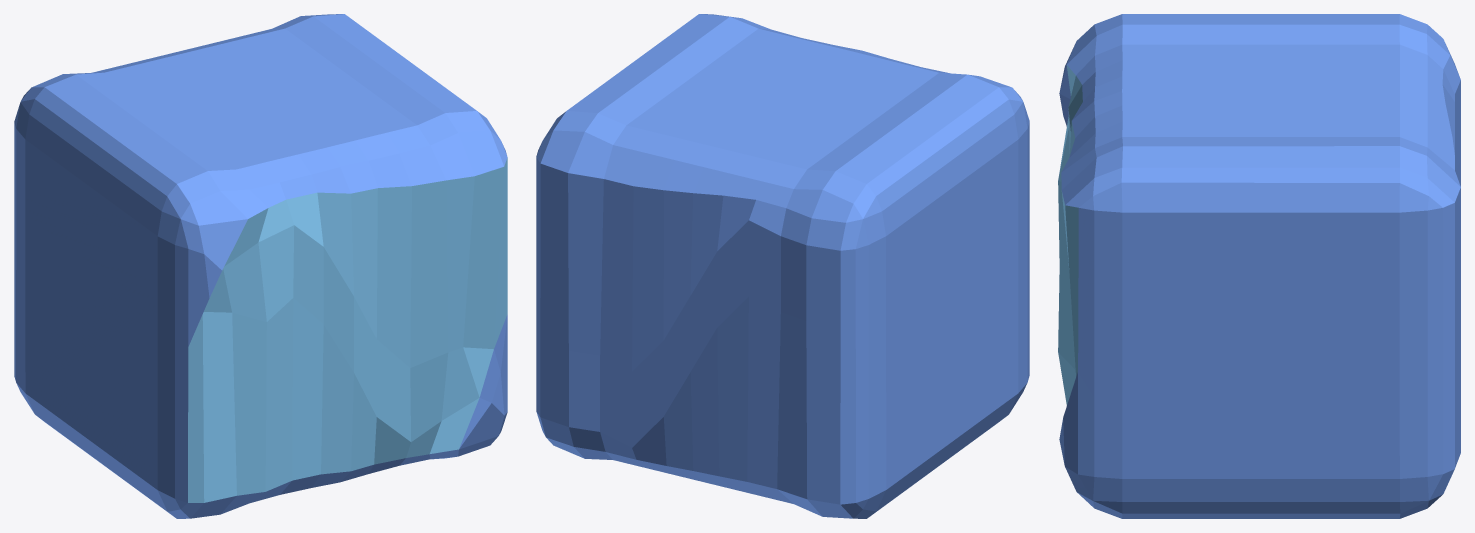
Rendered from smallbluebutton - Copy.fbx.
3 renders of one model, left to right at view 1: azimuth 30°, elevation 25°; view 2: azimuth 150°, elevation 25°; view 3: azimuth 270°, elevation 25°, orthographic. The views are drawn at different scales.
Visible parts, largest first — view 1: pCube5; view 2: pCube5; view 3: pCube5.
Boxes of the visible parts, x1=… form: pCube5: x1=14, y1=14, x2=507, y2=518; pCube5: x1=536, y1=14, x2=1029, y2=518; pCube5: x1=1058, y1=14, x2=1460, y2=518.
Size of the model in its own units: 1.06 by 1.03 by 1.04.
